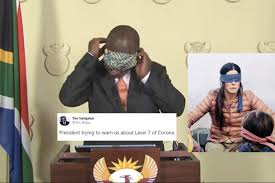mask_weared_incorrect: (101, 34, 140, 78), (219, 66, 243, 95)
